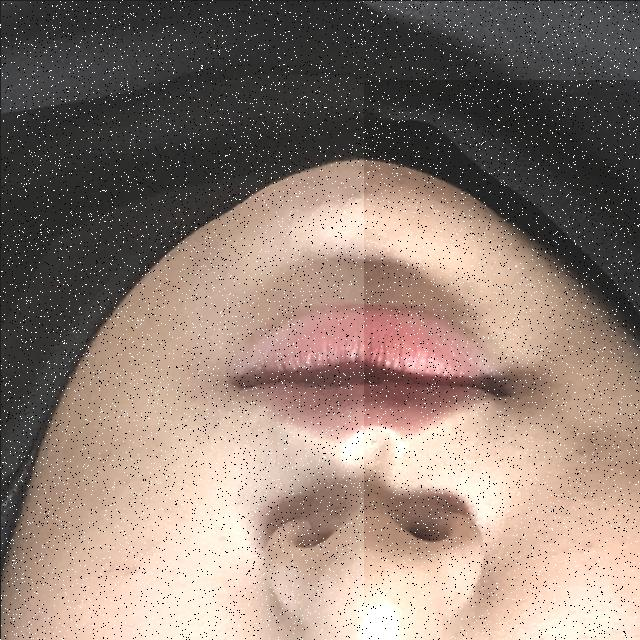ibu: (363, 79, 640, 640)
